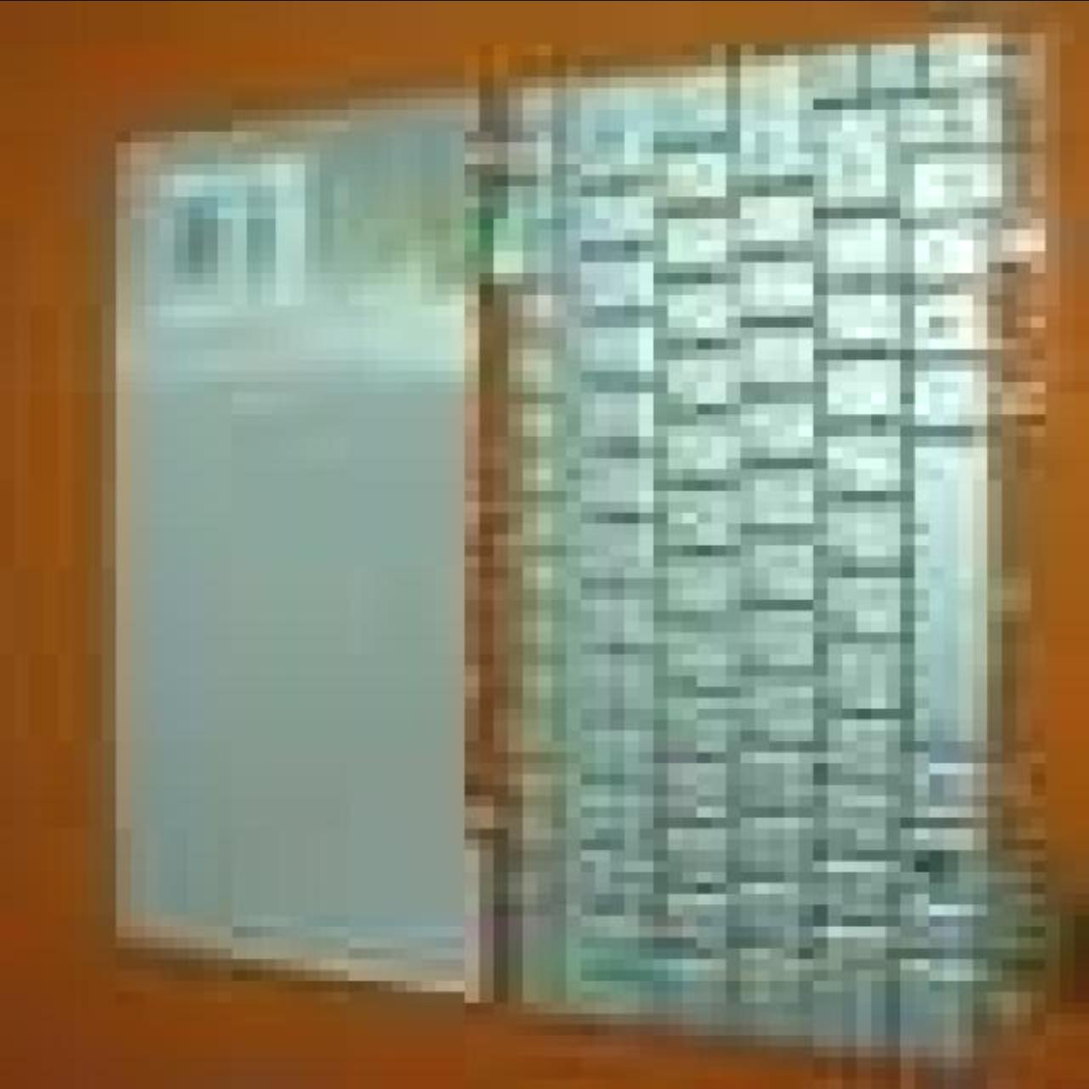laptop: (97, 31, 1029, 1027)
